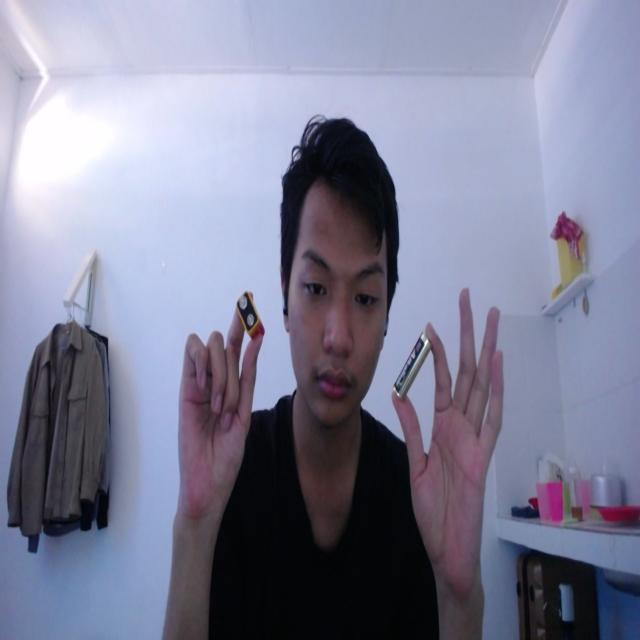9V: (229, 278, 272, 356)
AA: (390, 317, 436, 408)
